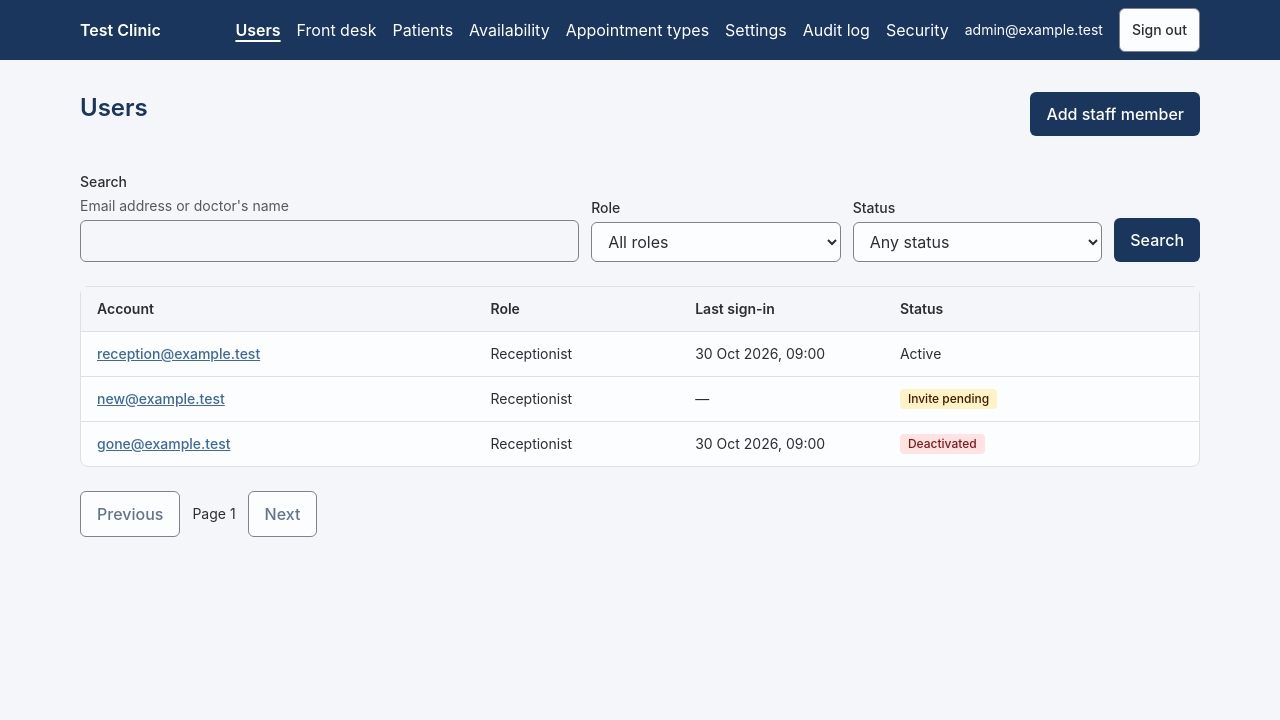
users › lists users with status badges and filters through the URL
The image size is (1280, 720).
Expected: the text "Invite pending" is shown, [900, 389, 997, 409]
Expected: the text "Deactivated" is shown, [900, 434, 985, 454]
Type "dr" into the field labelled "Search".
click(330, 241); type("dr")  # box [80, 220, 579, 262]
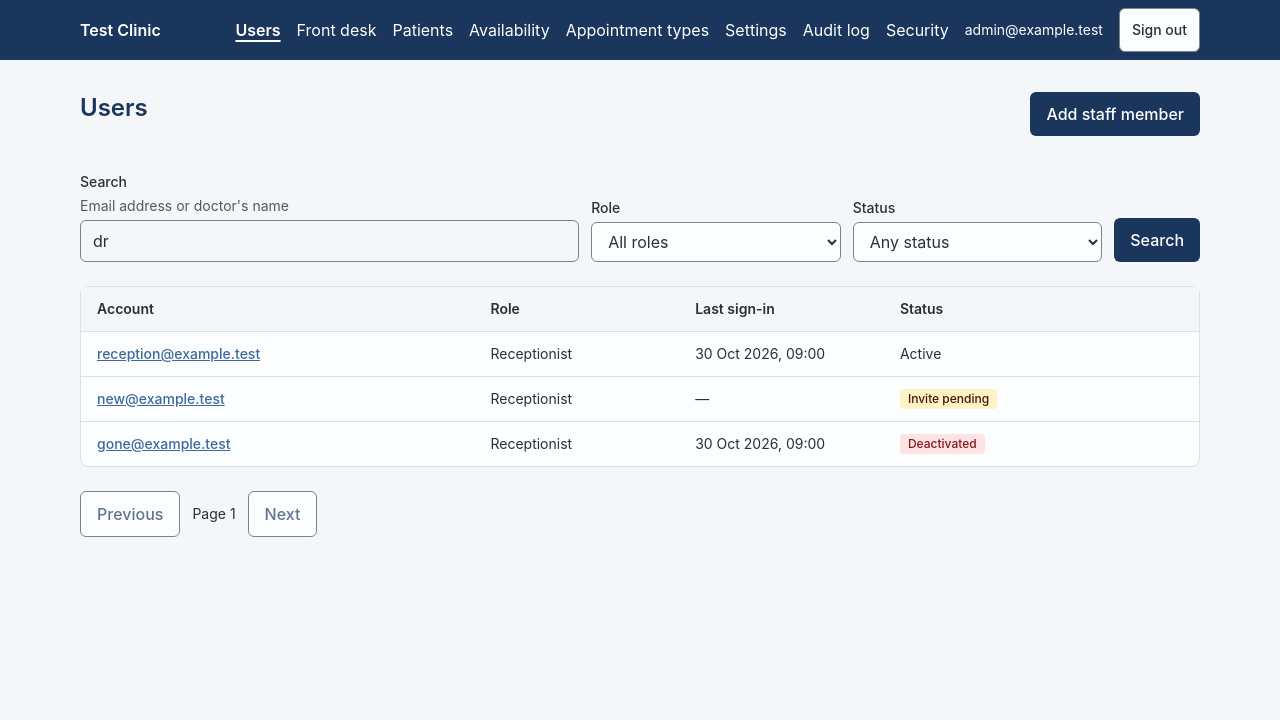
Select "Doctor" in the dropdown labelled "Role" at (716, 242), box [591, 222, 841, 262]
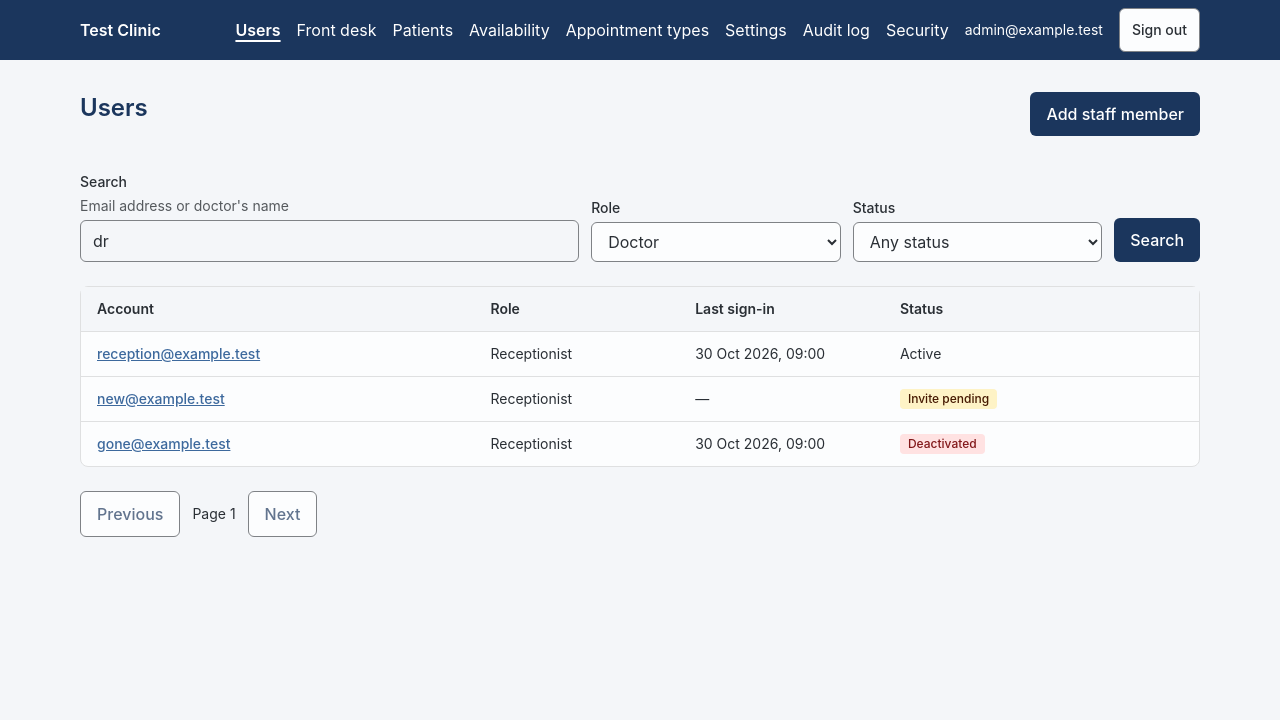
Click the button "Search".
click(1157, 240)  # box [1114, 218, 1200, 262]
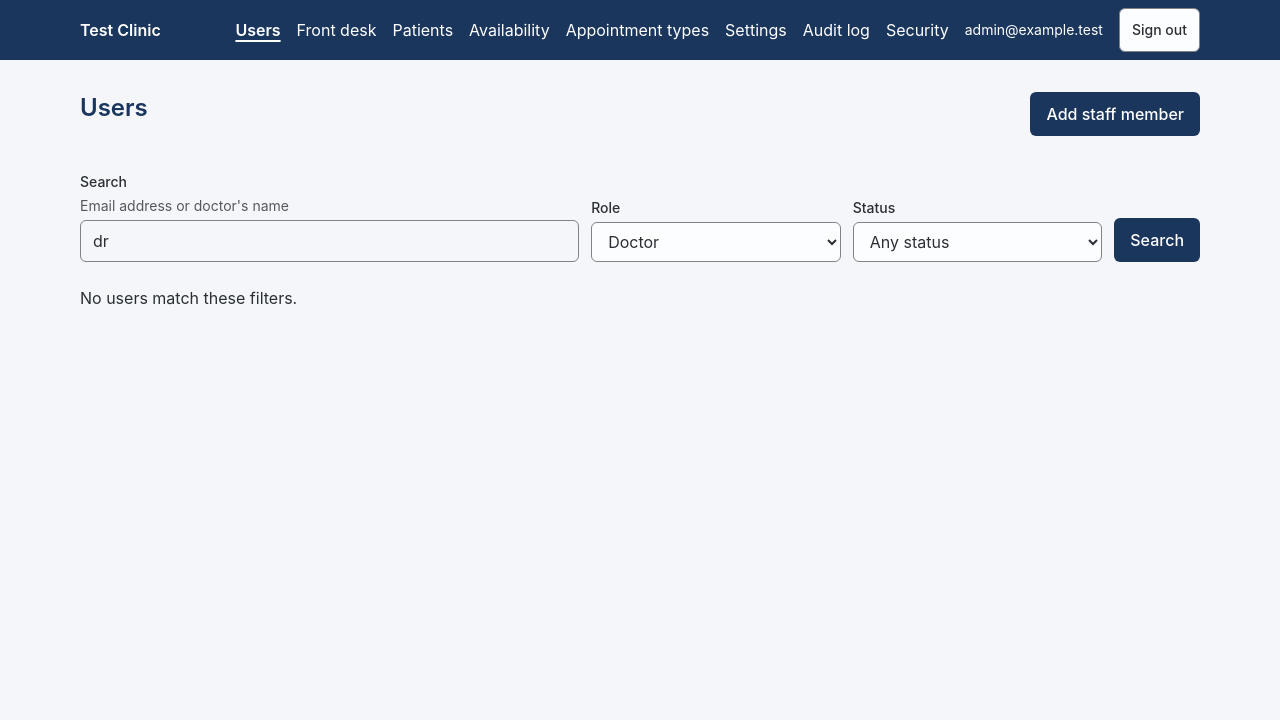
Expected: the text "No users match these filters." is shown, [80, 288, 297, 308]
